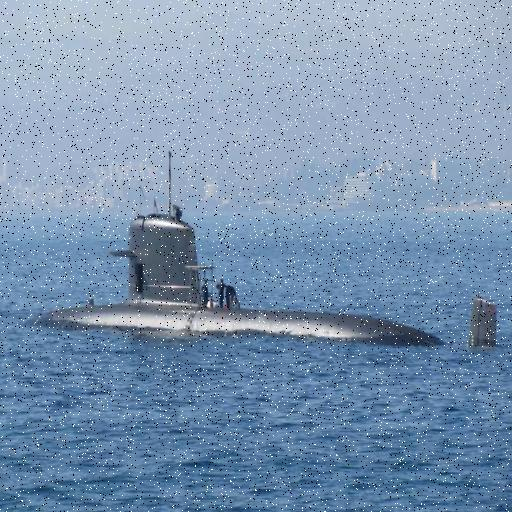submarine: (34, 144, 502, 343)
